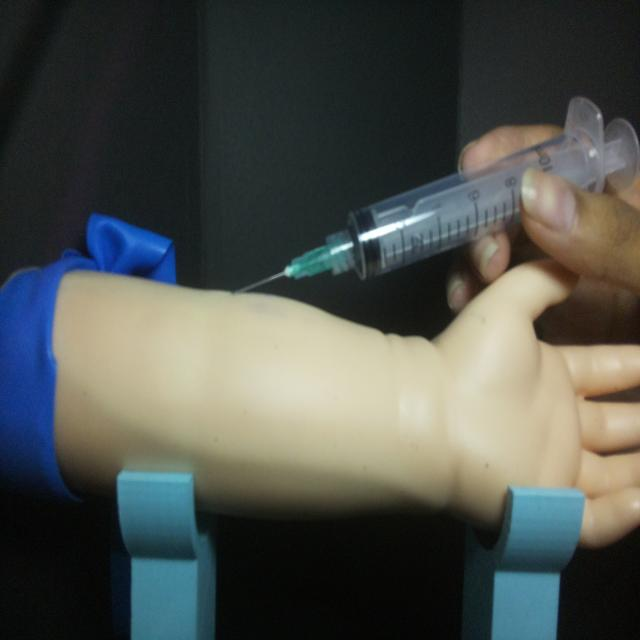20deg: (229, 92, 637, 298)
